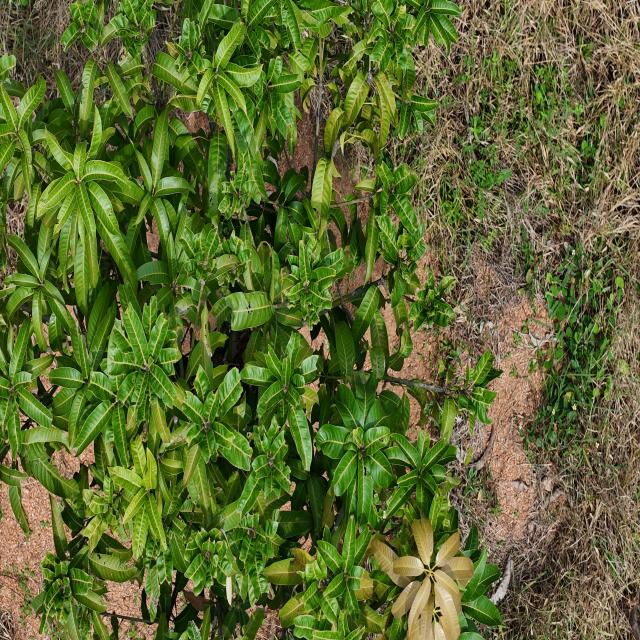mangoTree: (0, 0, 504, 640)
